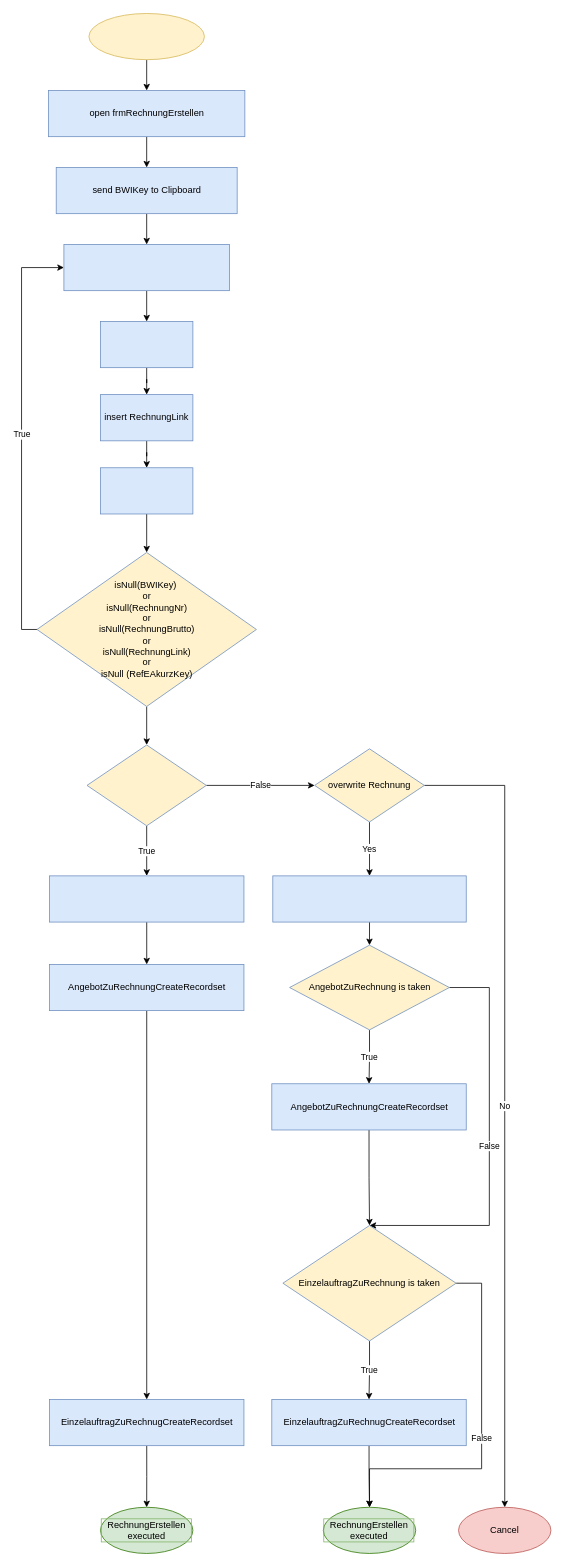
Image size: 564x1567. Some labels were removed from this diagram. Here are the shapes that lost their labels. From the top down, the centre of each, then its label:
At (x=146, y=36): "select BWIKey".
At (x=146, y=267): "insert RechnungNr".
At (x=146, y=344): "insert RechnungBrutto".
At (x=146, y=490): "insert RefEAkurzKey".
At (x=146, y=785): "RechnungNr is taken".
At (x=146, y=898): "RechnungCreateRecordset".
At (x=369, y=898): "RechnungSaveRecordset".
